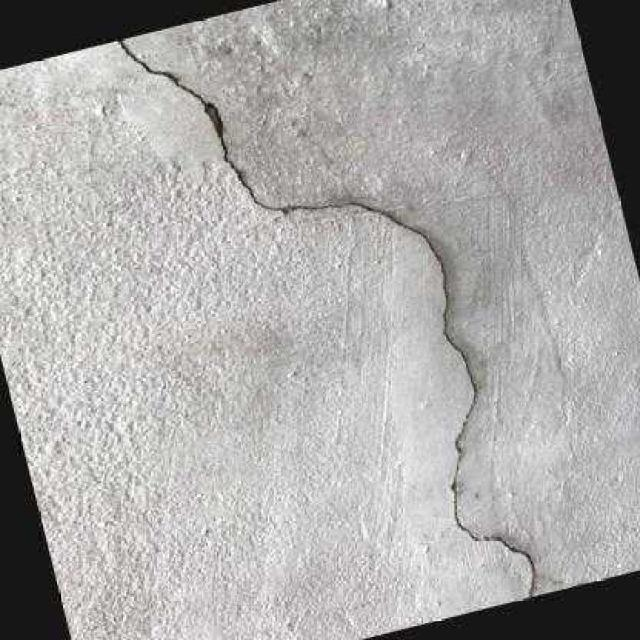D00: (115, 40, 534, 598)
